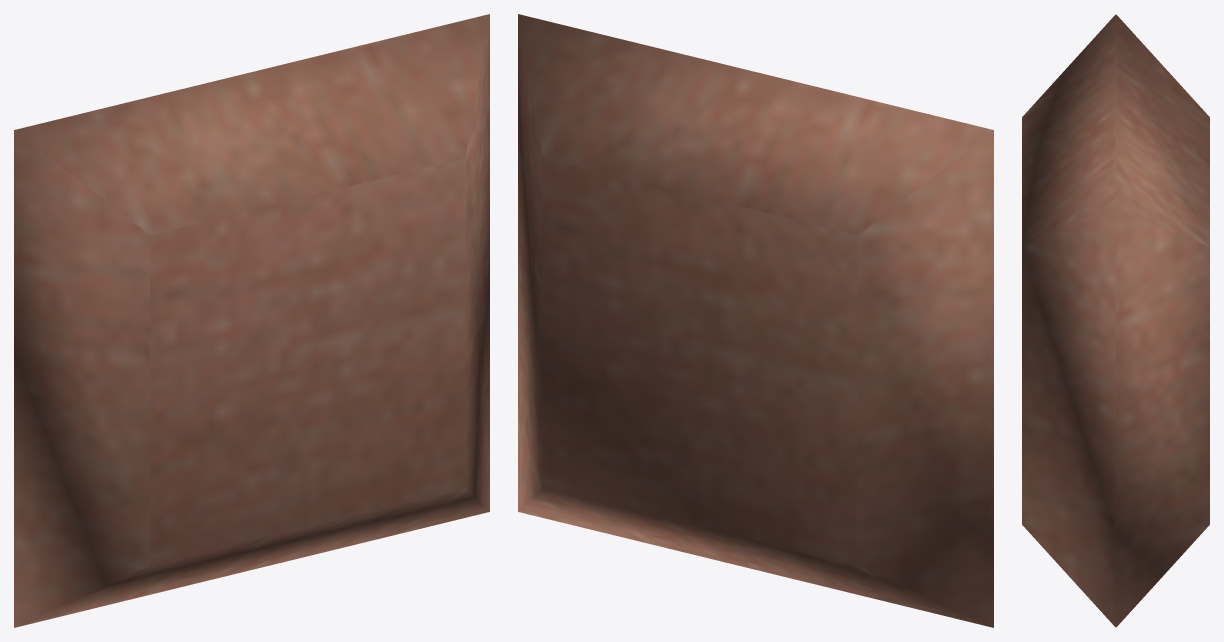
Rendered from SquarePillow_4.fbx.
The picture shows the model from 3 angles, left to right: view 1: azimuth 30°, elevation 25°; view 2: azimuth 150°, elevation 25°; view 3: azimuth 270°, elevation 25°; orthographic projection. The views are drawn at different scales.
Parts seen in each view (by area): view 1: ThrowPillow_Red_01; view 2: ThrowPillow_Red_01; view 3: ThrowPillow_Red_01.
Boxes of the visible parts, x1=… form: ThrowPillow_Red_01: x1=14, y1=14, x2=489, y2=627; ThrowPillow_Red_01: x1=518, y1=14, x2=993, y2=627; ThrowPillow_Red_01: x1=1022, y1=14, x2=1209, y2=627.
Bounding box in the file's own units: 0.5227 × 0.5227 × 0.2124.
